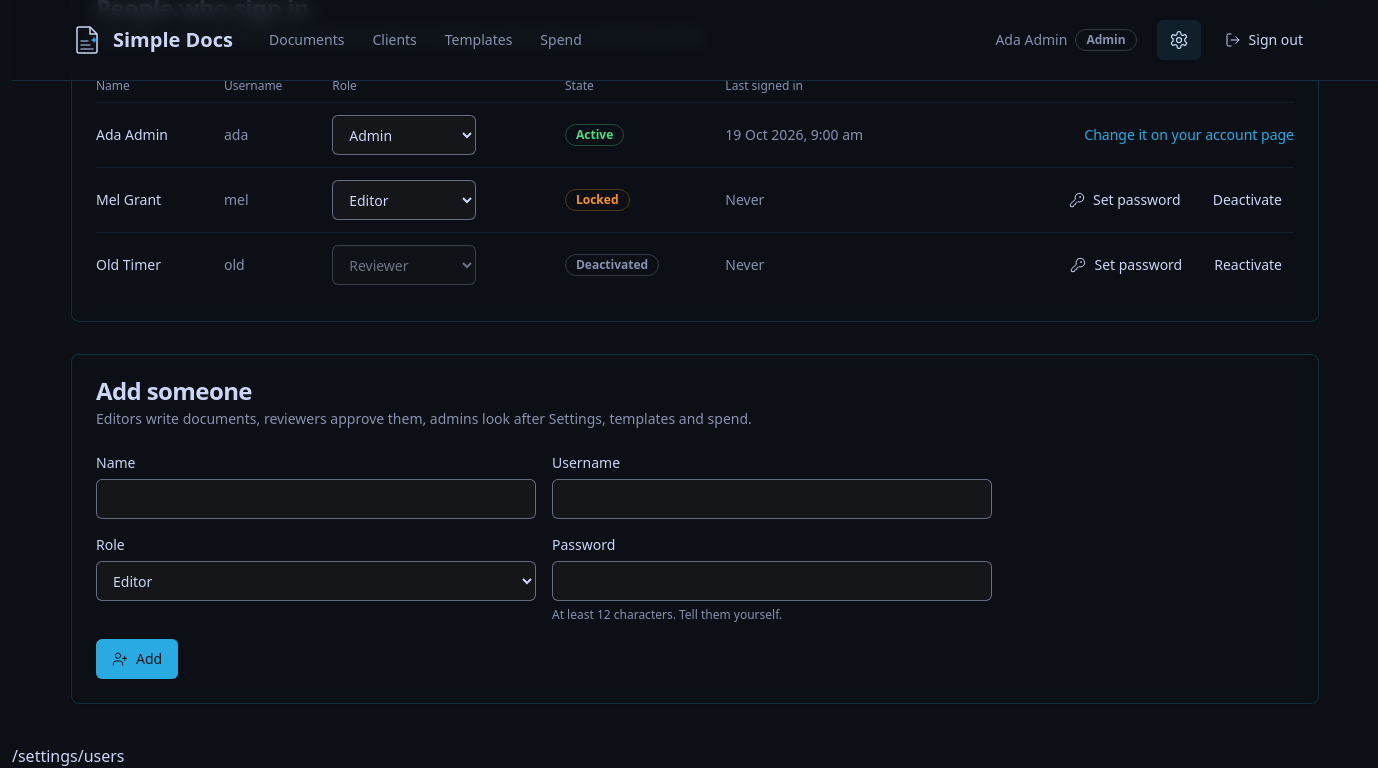
Test: Settings → Users › adds someone
(page scrolled)
Type "Kim Lee" into the field labelled "Name". click: (316, 499)
box: [96,479,536,519]
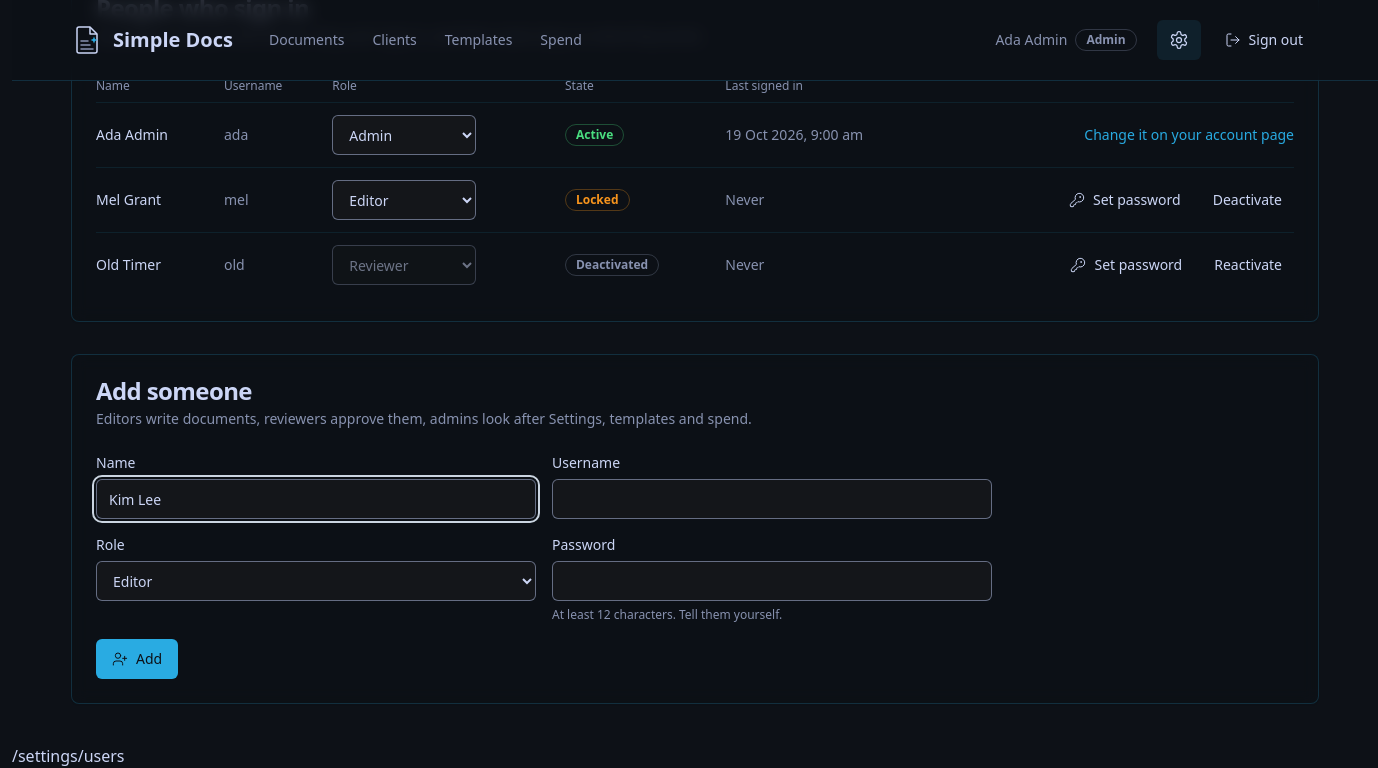
Type "kim" into the field labelled "Username". click: (772, 499)
box: [552,479,992,519]
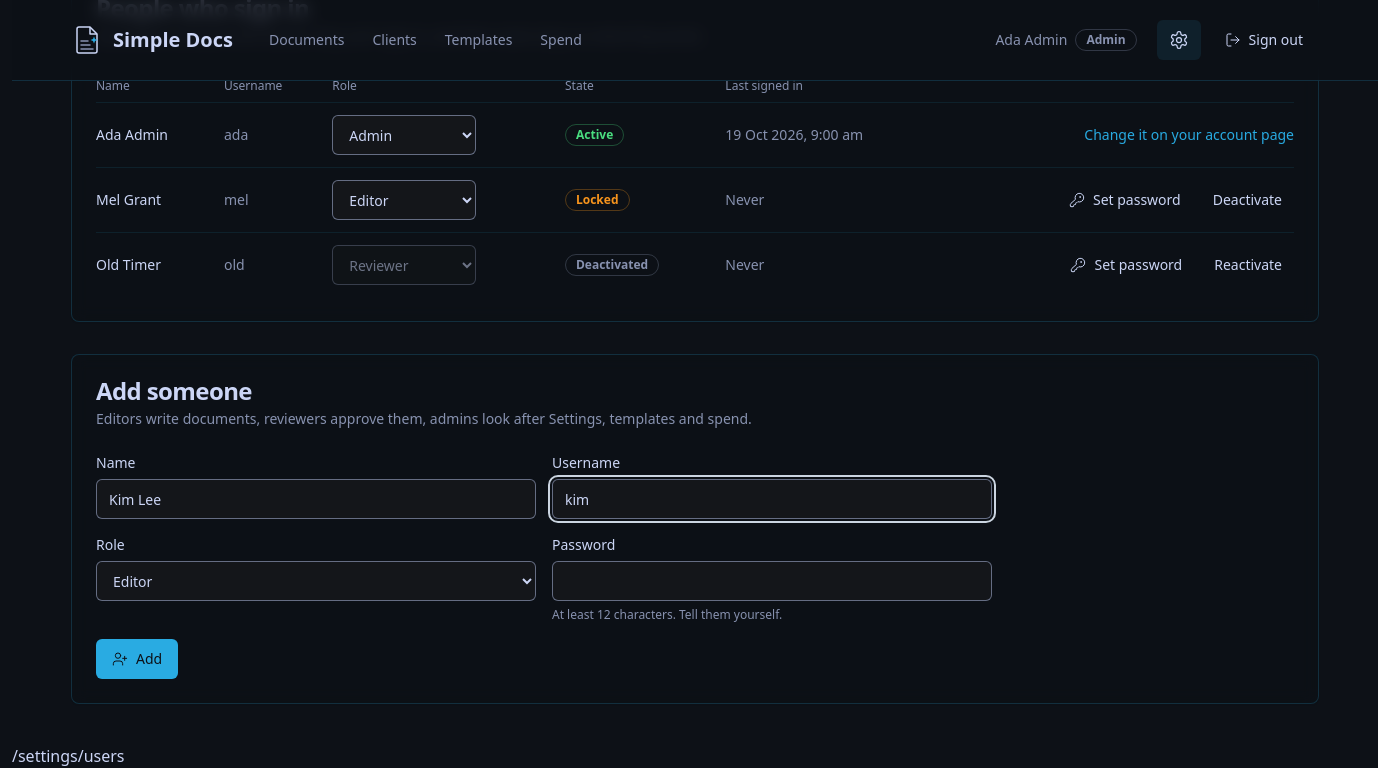
Select "Reviewer" in the dropdown labelled "Role". click: (316, 581)
box: [96,561,536,601]
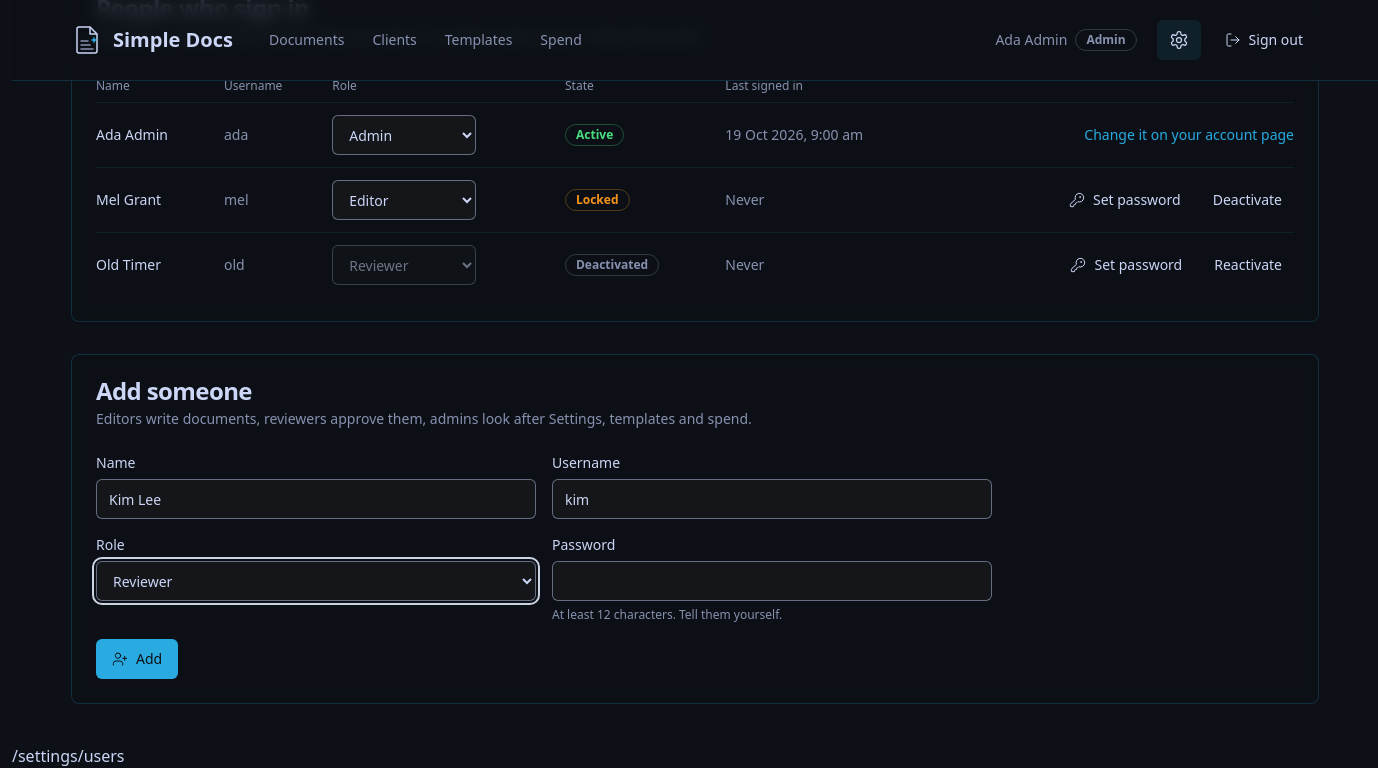
Type "another long password" into the password field labelled "Password". click: (772, 581)
box: [552,561,992,601]
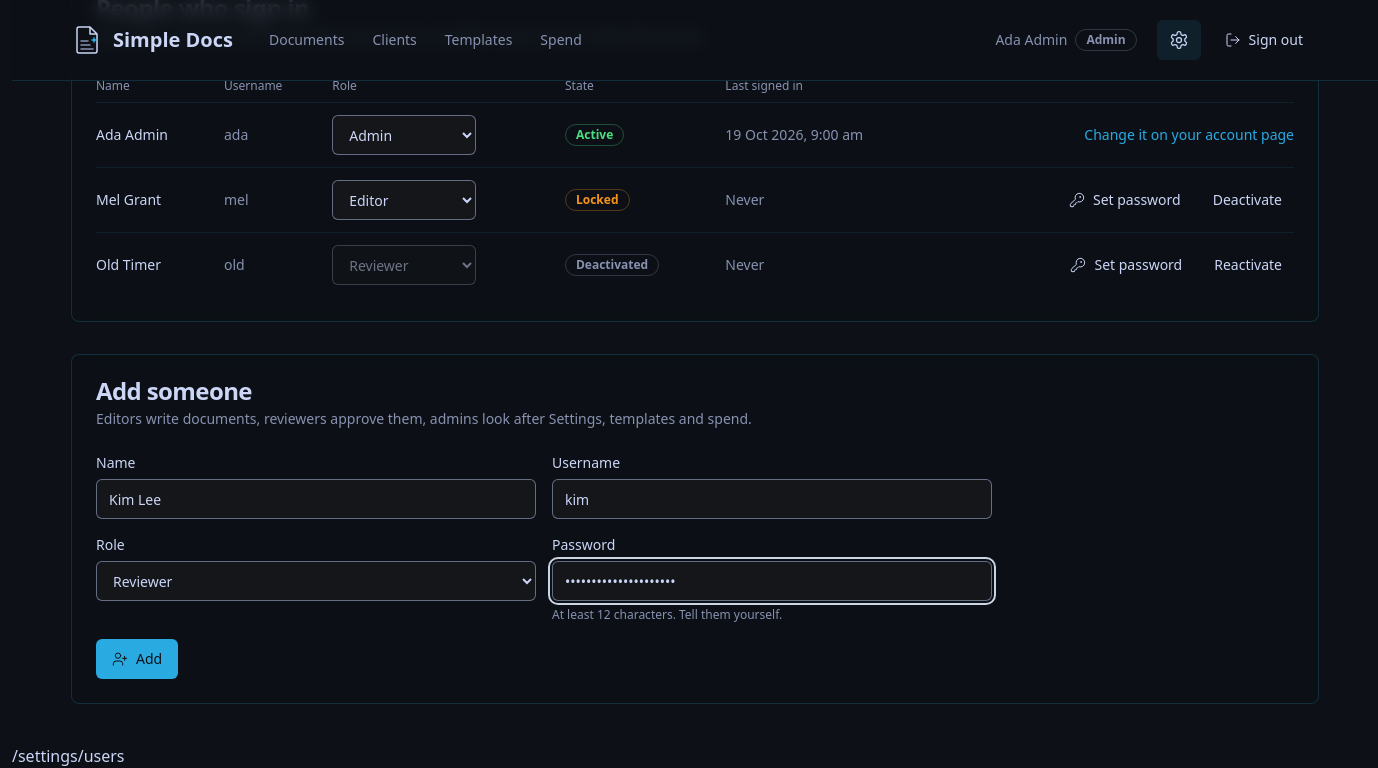
Click the button "Add". click: (137, 659)
box: [96,639,178,679]
(page scrolled)
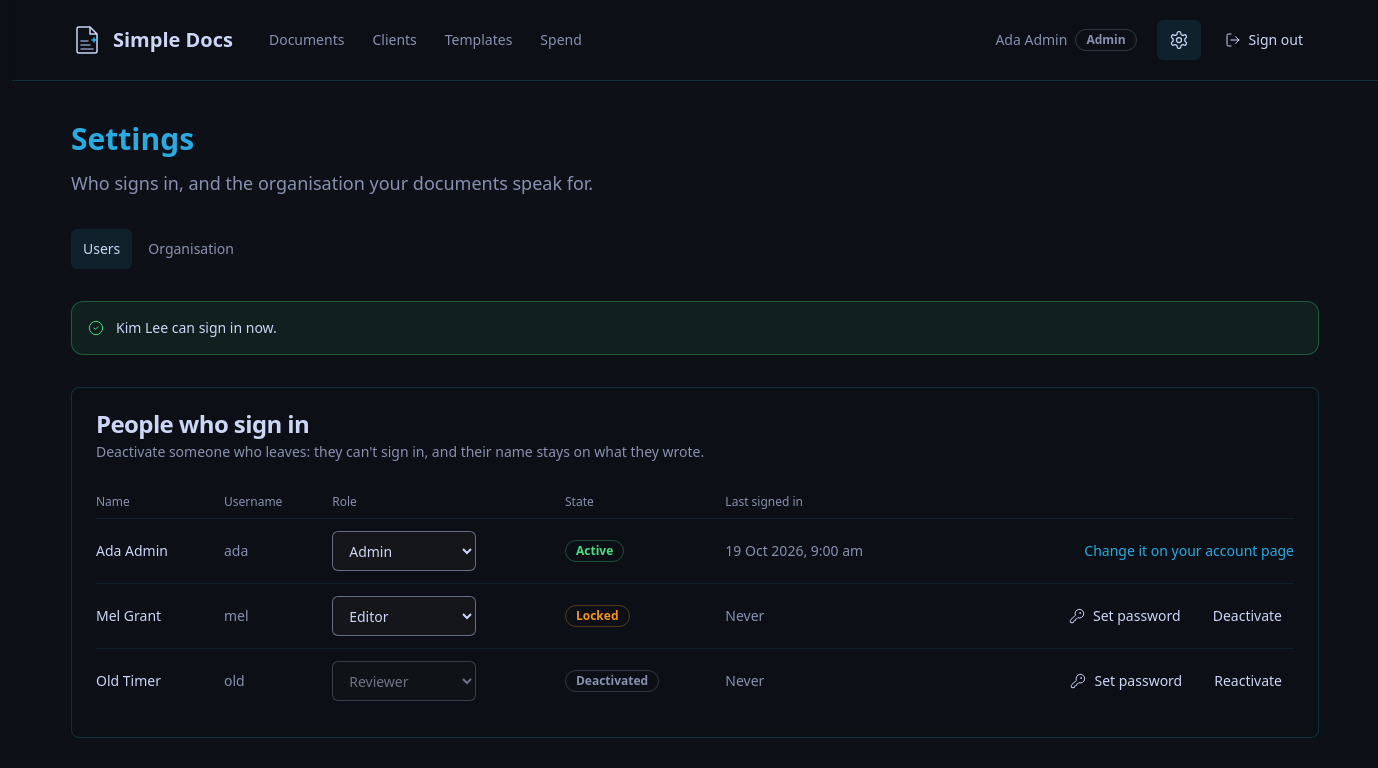
Check: the message reads "Kim Lee can sign in now.", box [116,318,277,337]
